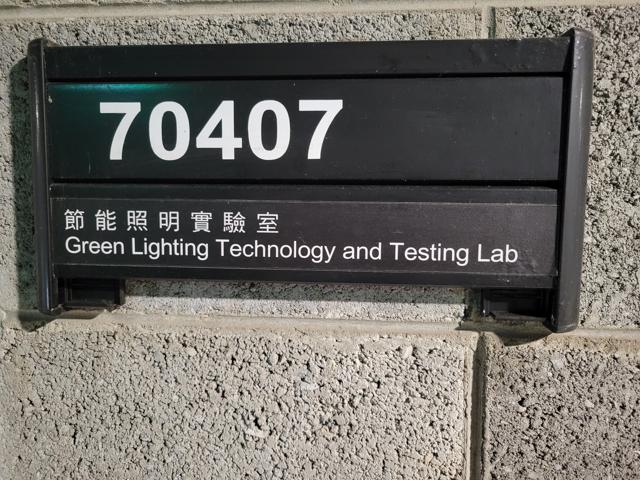doorplate: (19, 22, 608, 334)
